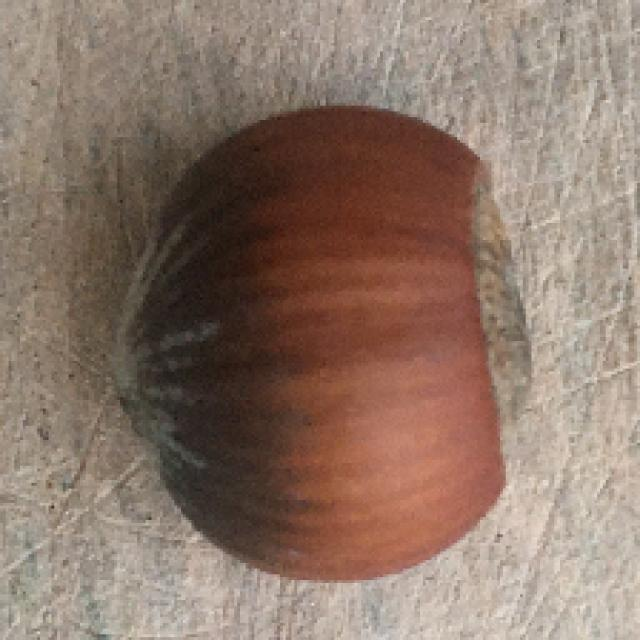DamagedHazelnut: (107, 105, 533, 584)
